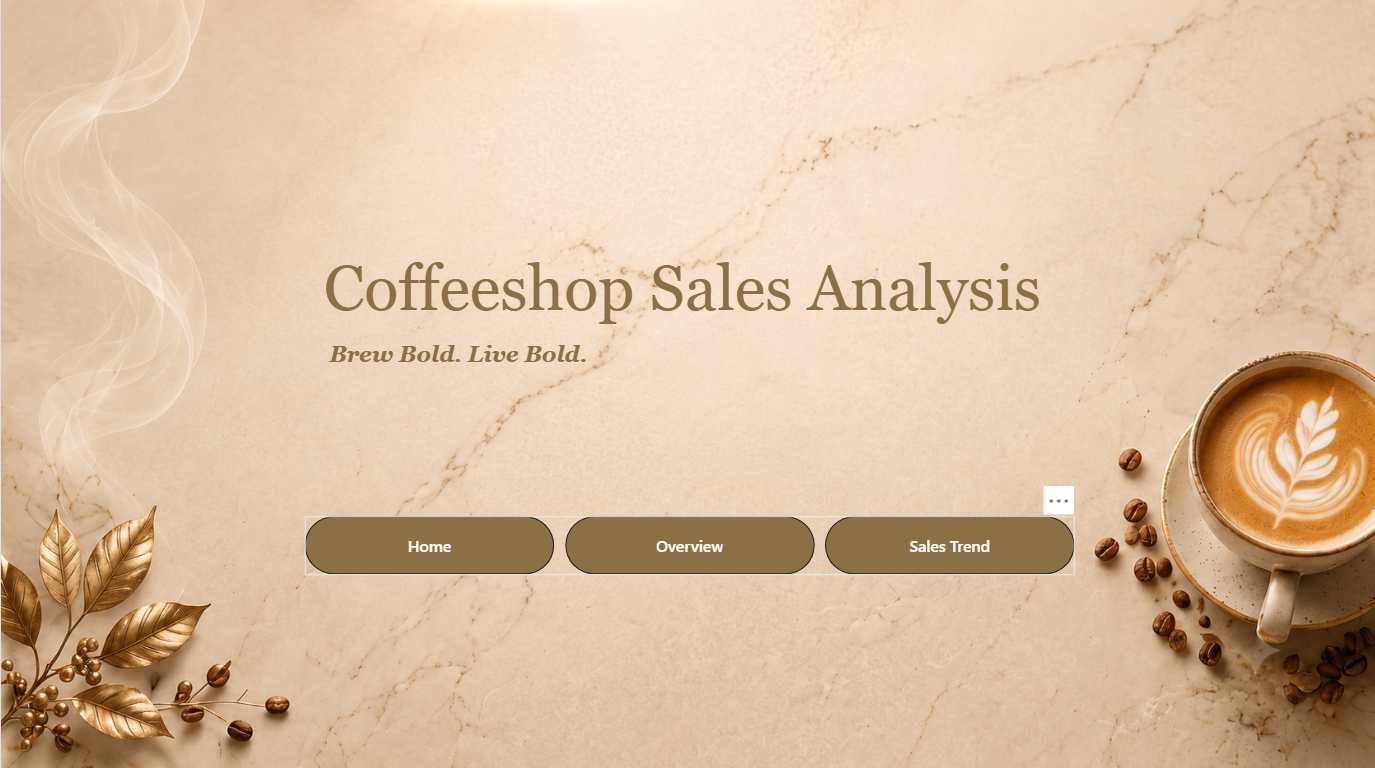

The page's visual inventory and layout, read from the dashboard file:
{"tool":"powerbi","page":{"name":"Home","canvas":[1280,720],"ordinal":0},"visuals":[{"type":"textbox","box":[295.9,230,689.5,107],"z":0},{"type":"pageNavigator","box":[282.5,480.2,716.6,54.2],"z":1000},{"type":"textbox","box":[295.9,312.7,302.6,35.7],"z":2000}]}

Visuals, with their boxes in screenshot pixels (x1, y1, x2, y2), scaled from the page's 1280x720 canvas onto the 1375x768 screenshot:
textbox: 318:245:1059:359
pageNavigator: 303:512:1073:570
textbox: 318:334:643:372
